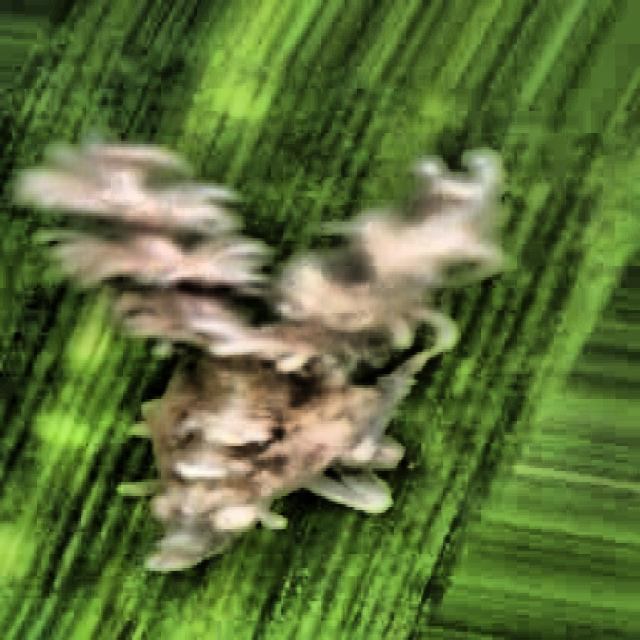Pyrilla-perpusilla: (39, 112, 550, 531)
